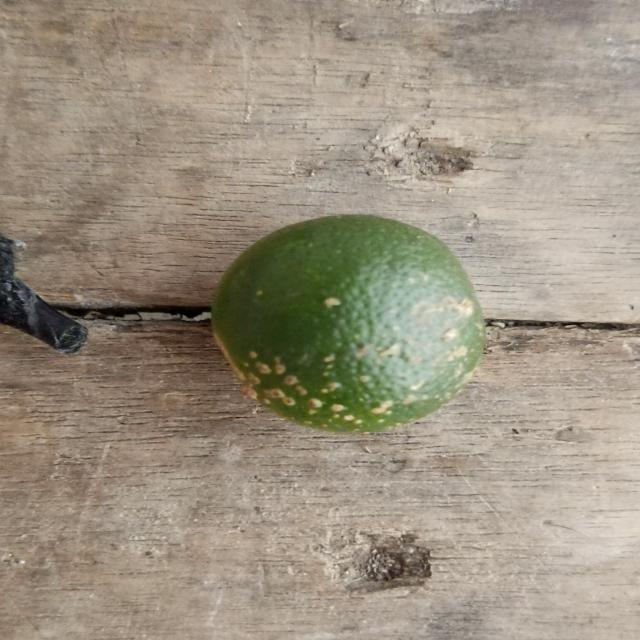scab: (214, 210, 494, 433)
